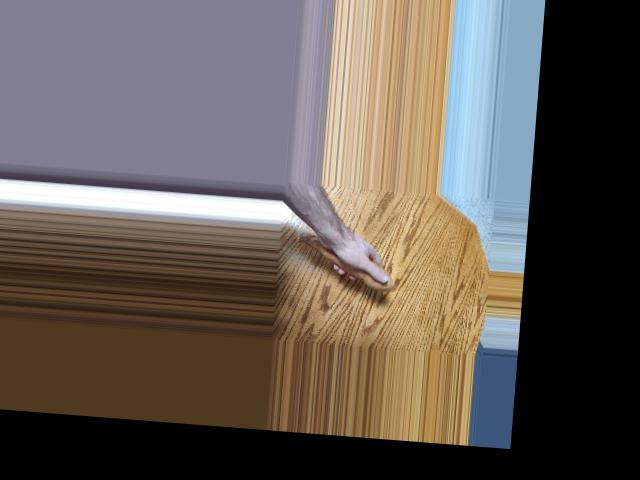sweet_potato: (288, 228, 399, 294)
